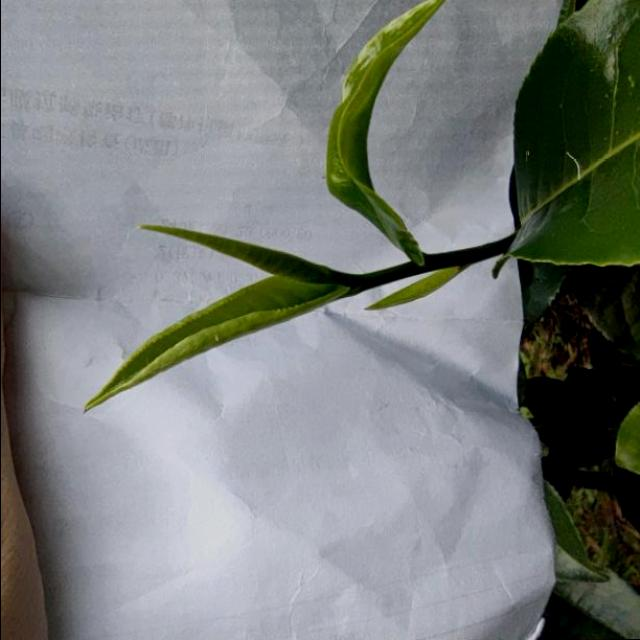Stem: (343, 275, 365, 291)
